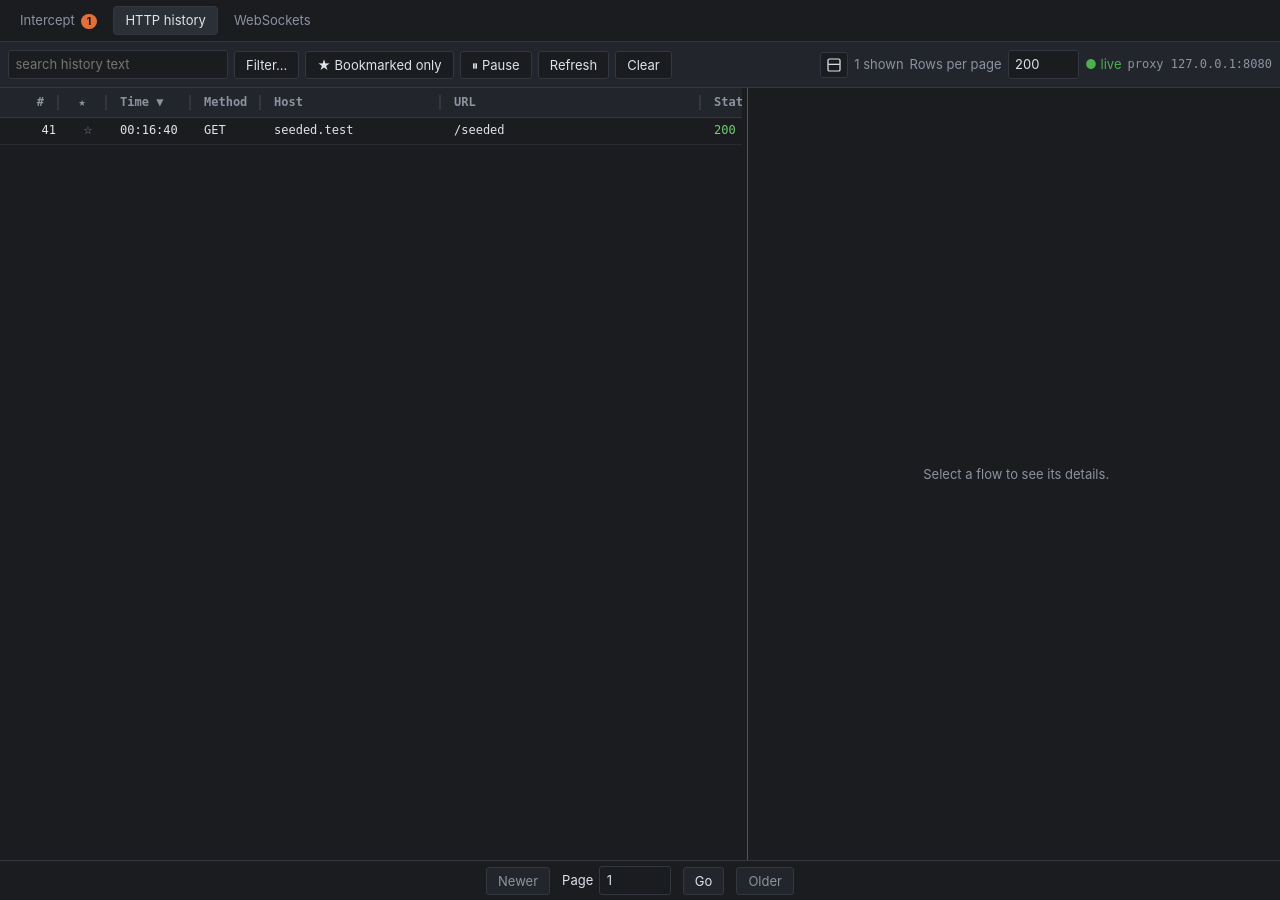
Test: ProxyTab › keeps the Intercept queue filter when switching Proxy subtabs
This screenshot has width=1280, height=900.
Expected: the text "seeded.test" is shown, [266,118,446,144]
Click the button "Intercept1". click: (59, 21)
box: [8,6,109,35]
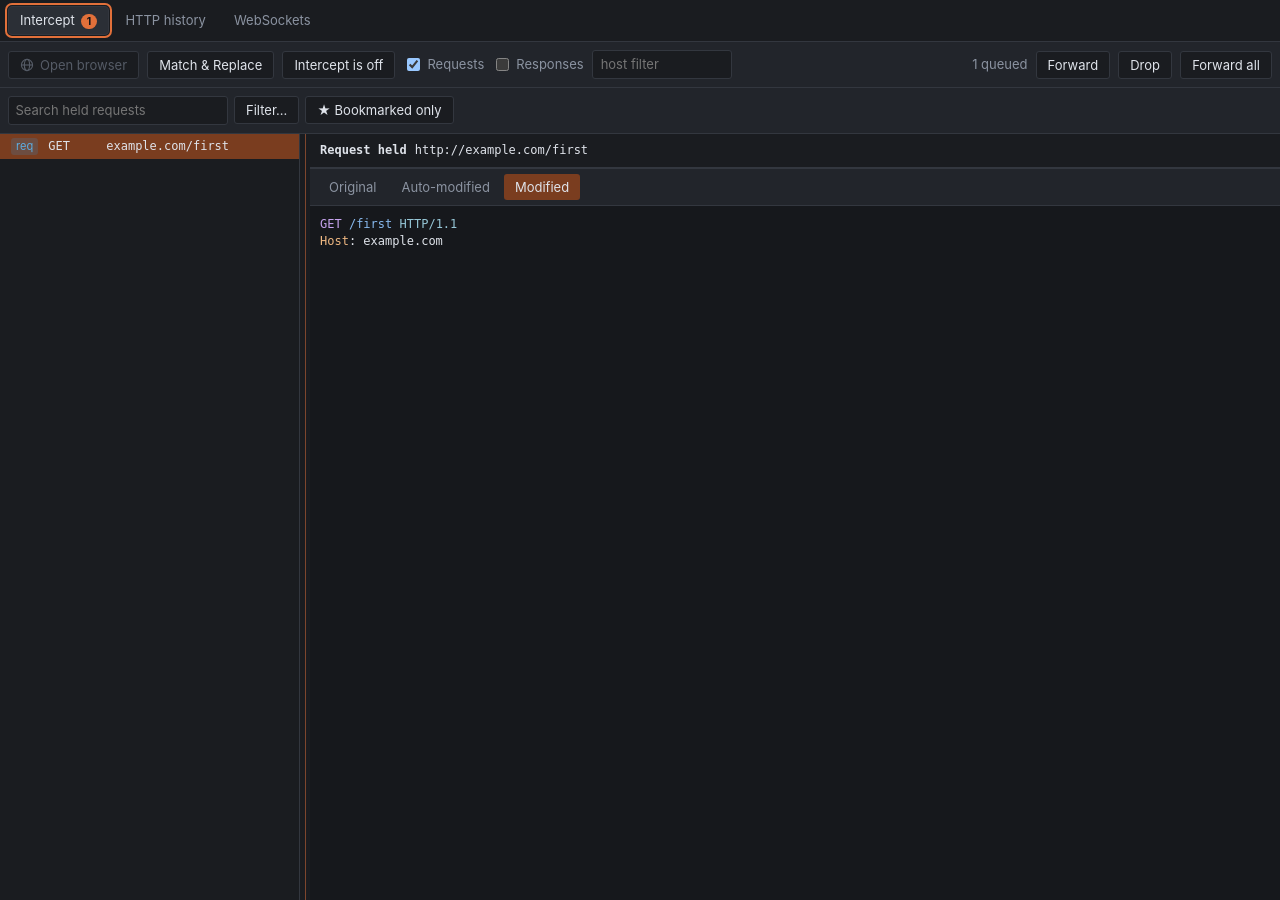
Type "missing" into the field labelled "Search held requests". click: (118, 110)
box: [8,96,228,125]
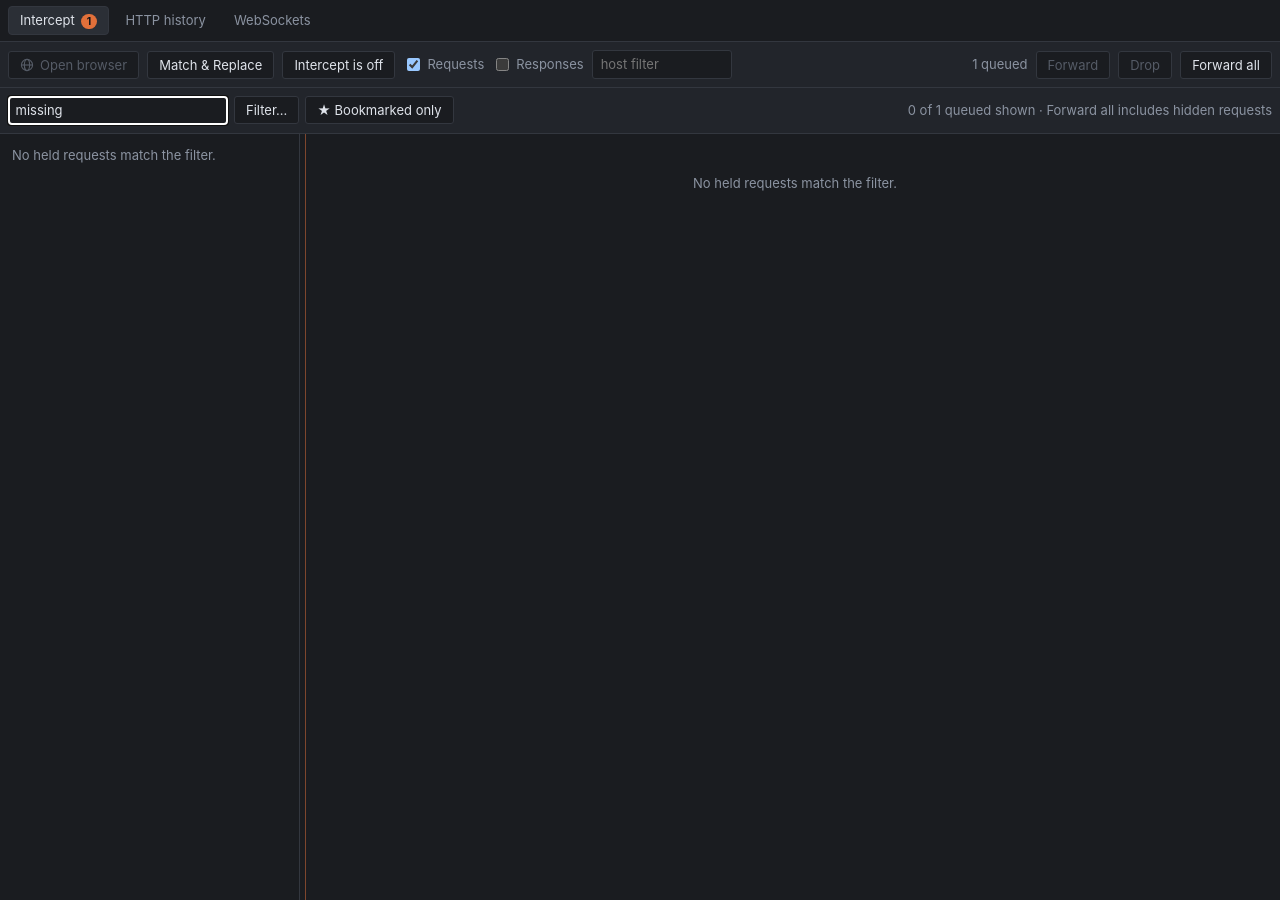
Result: the list item "No held requests match the filter." is shown at [12,147,216,163]
Click the button "HTTP history". click: (166, 21)
box: [113,6,218,35]
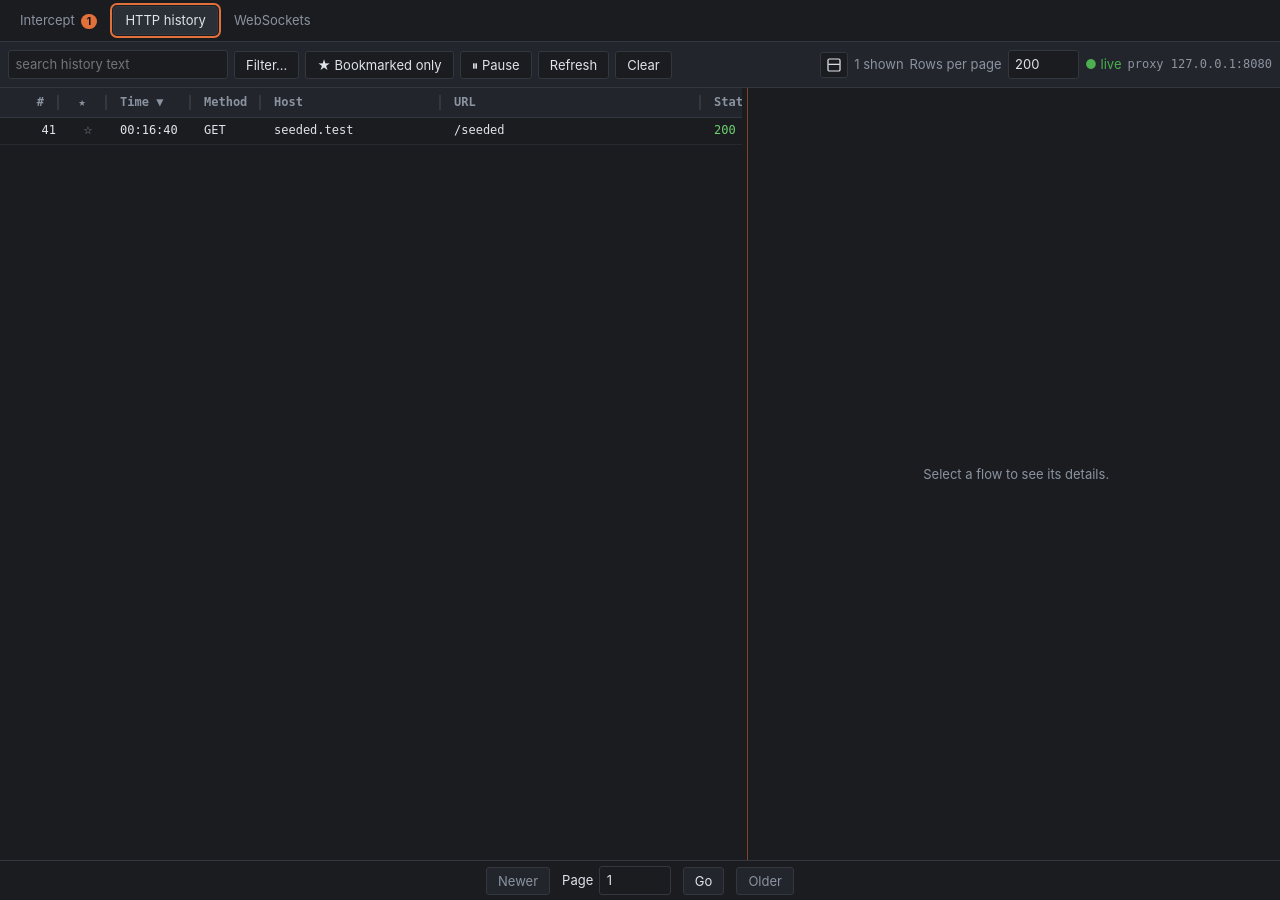
Click the button "Intercept1". click: (59, 21)
box: [8,6,109,35]
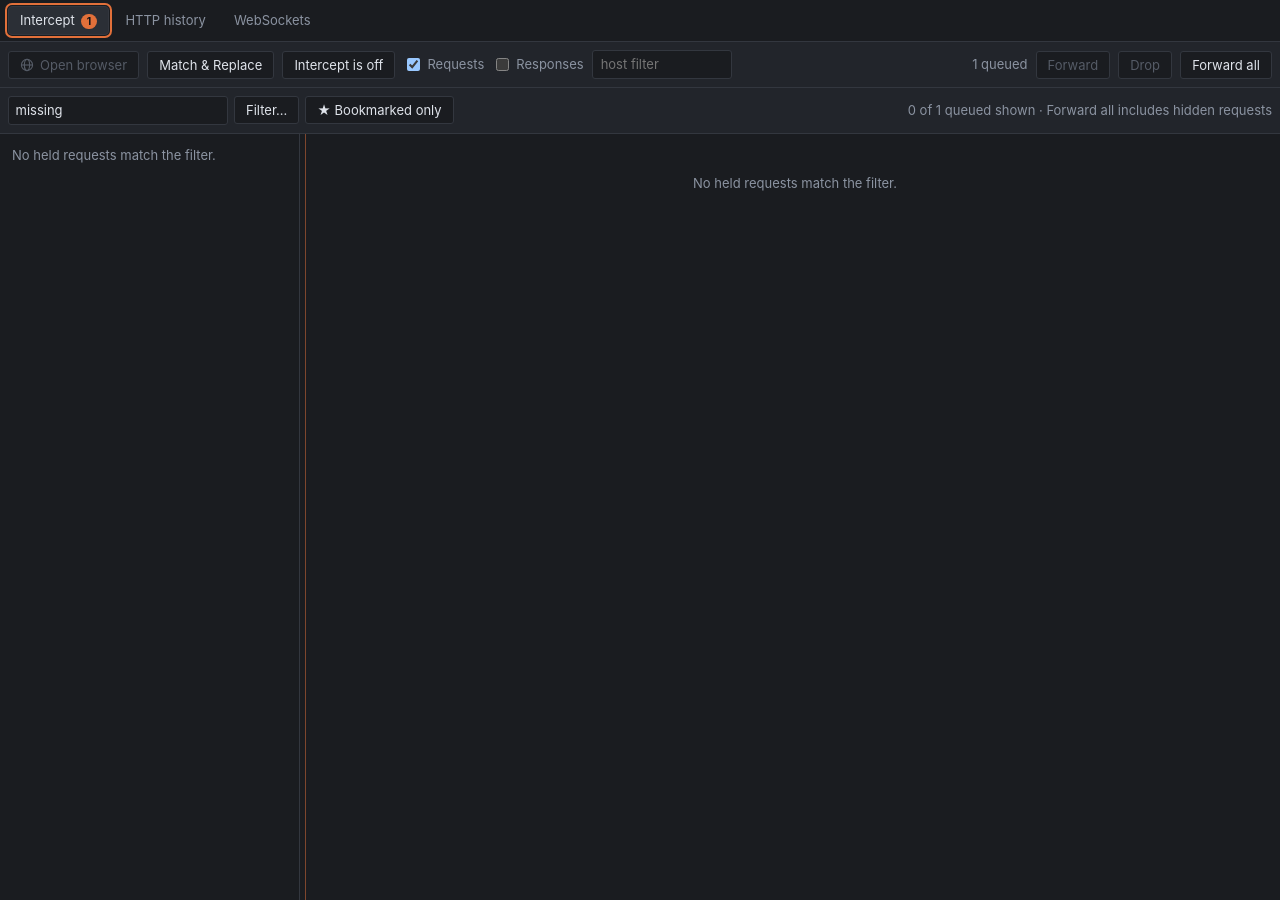
Result: the field named "Search held requests" holds "missing" at [8,96,228,125]
Result: the list item "No held requests match the filter." is shown at [12,147,216,163]
